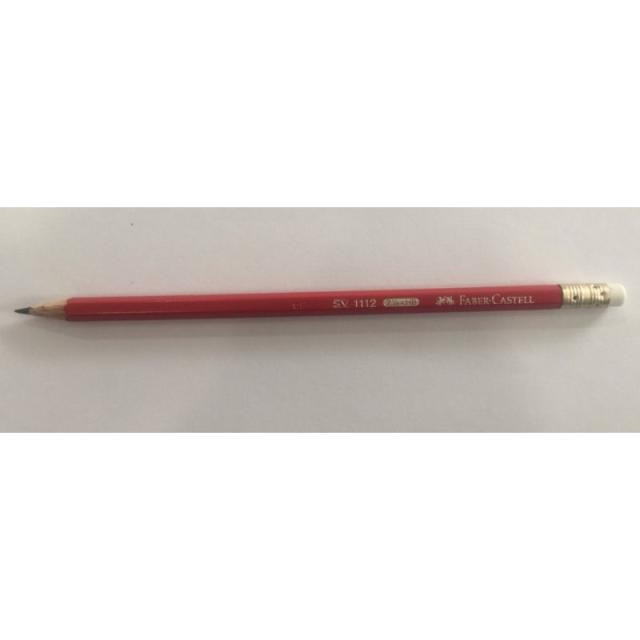pencil: (14, 275, 632, 326)
